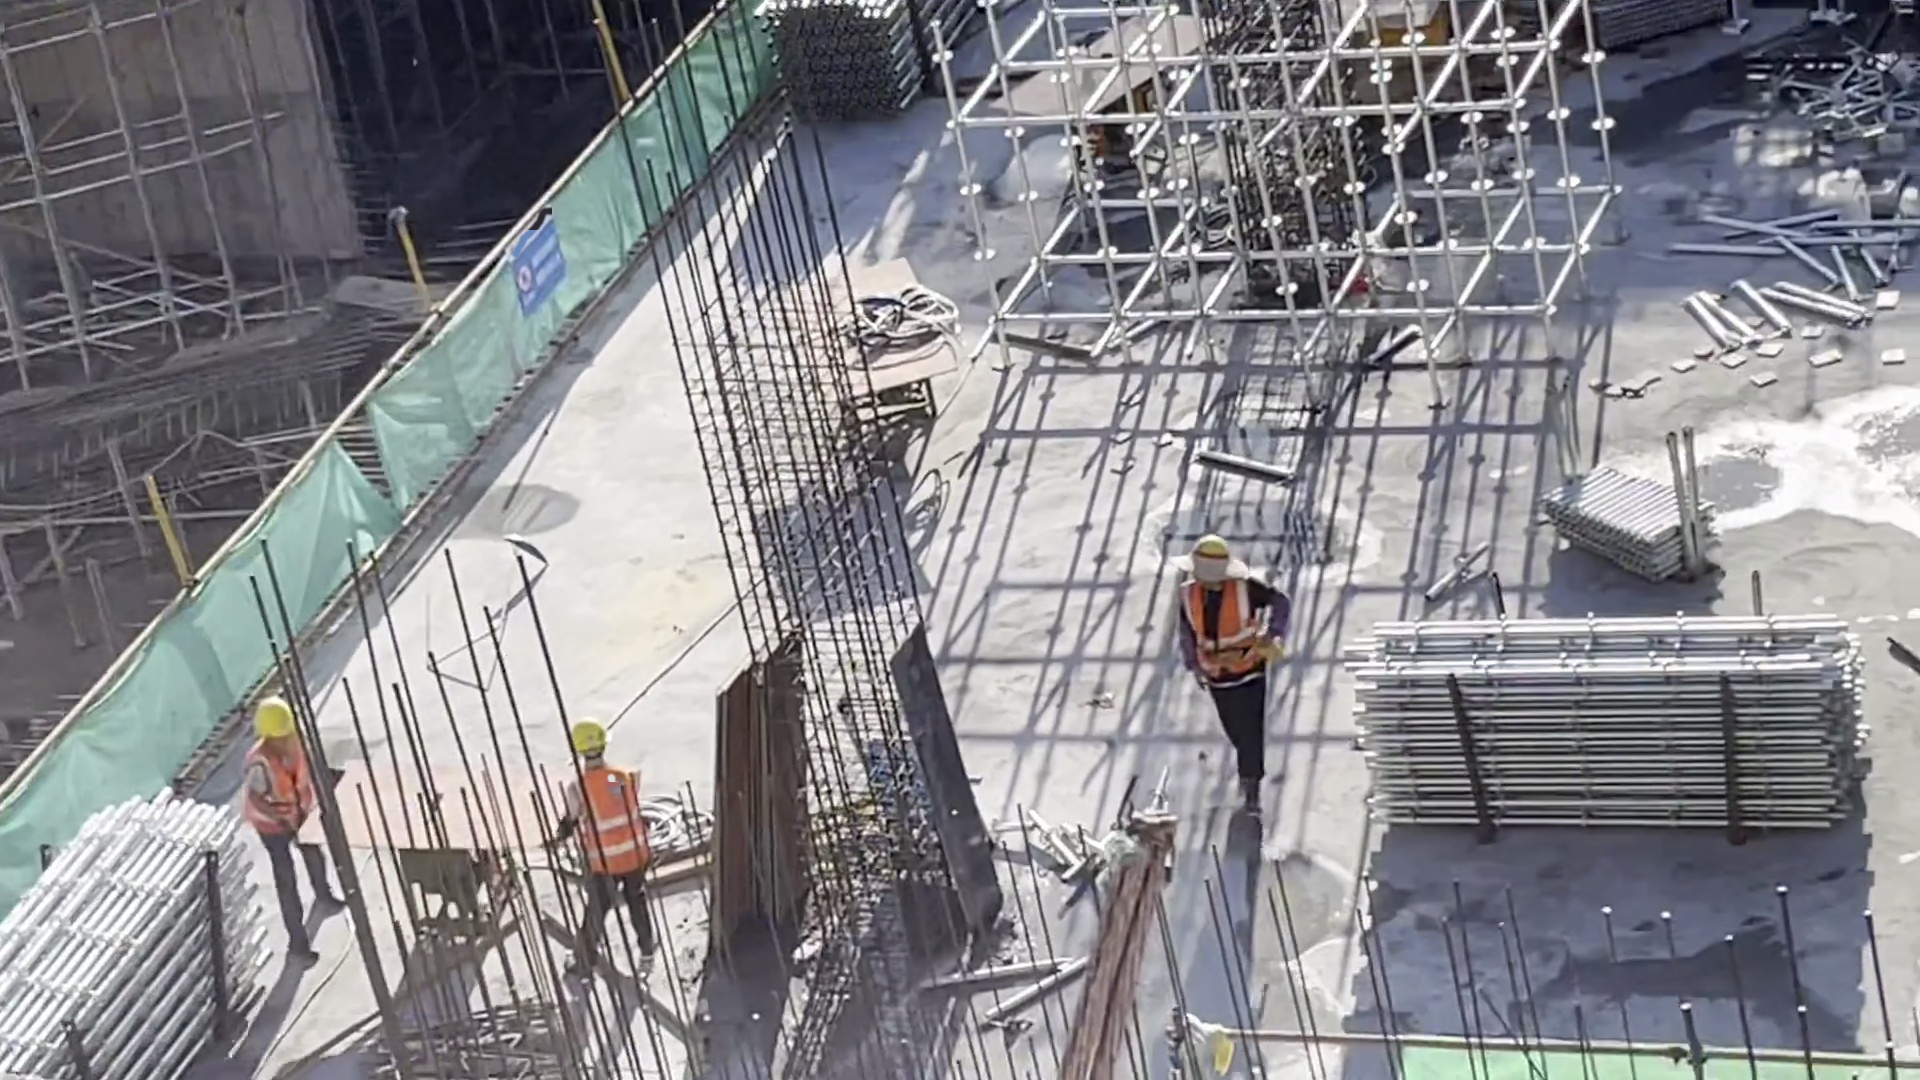helmet: (243, 696, 302, 747), (1188, 529, 1245, 576), (563, 720, 606, 763)
person: (1163, 528, 1295, 830), (538, 711, 663, 982), (240, 690, 354, 963)
scaffold: (1345, 606, 1877, 844), (2, 785, 274, 1077), (745, 7, 967, 123)
vest: (556, 770, 652, 873), (1173, 573, 1261, 679), (238, 745, 324, 831)
